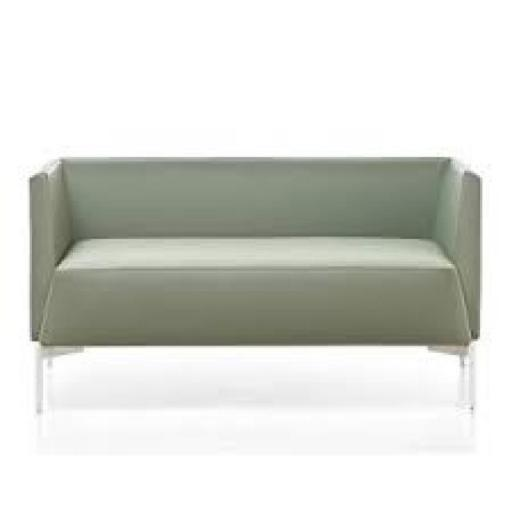sofa: (6, 140, 512, 416)
